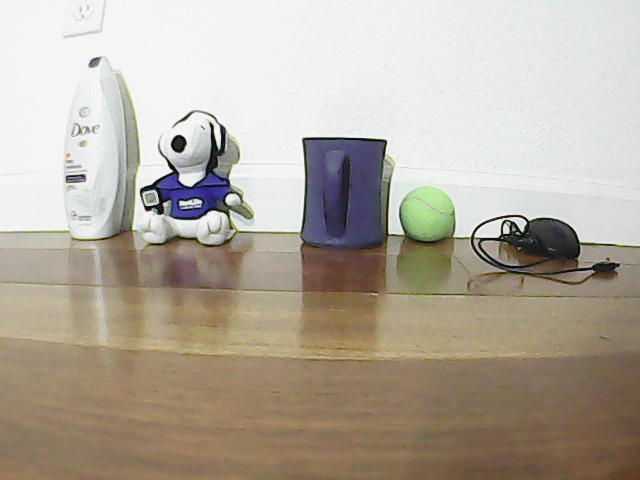ball: (402, 184, 466, 253)
mouse: (513, 213, 584, 261)
mug: (304, 131, 391, 253)
snoopy: (165, 104, 250, 244)
soap: (65, 45, 129, 242)
